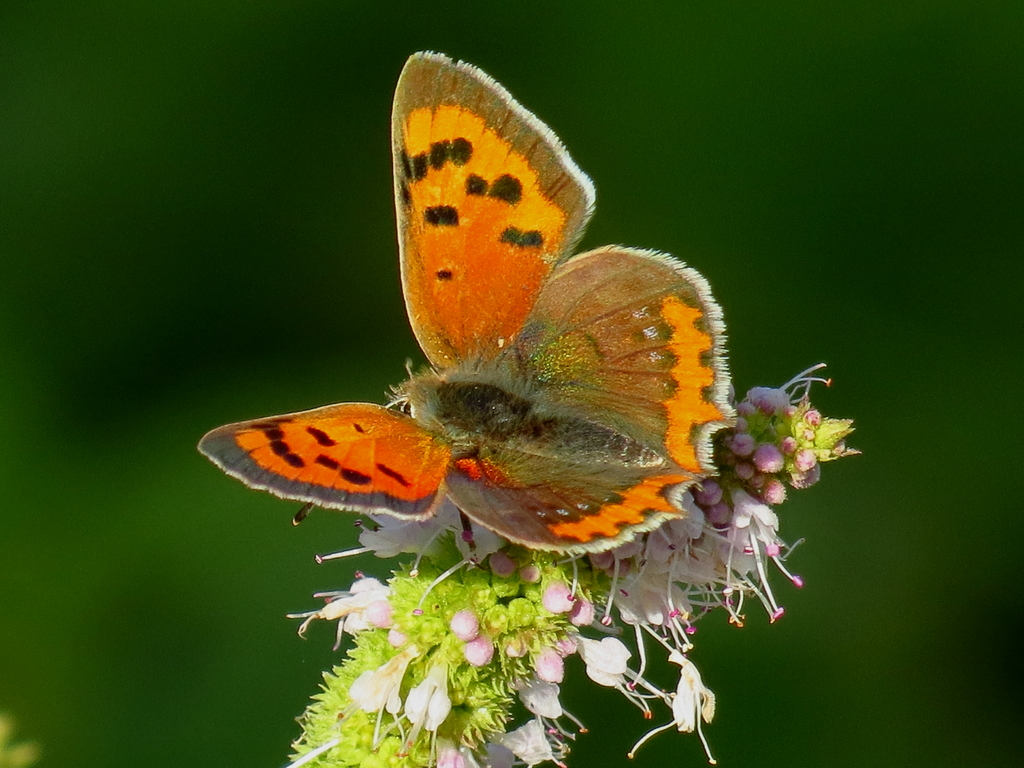Butterfly: (189, 27, 745, 566)
